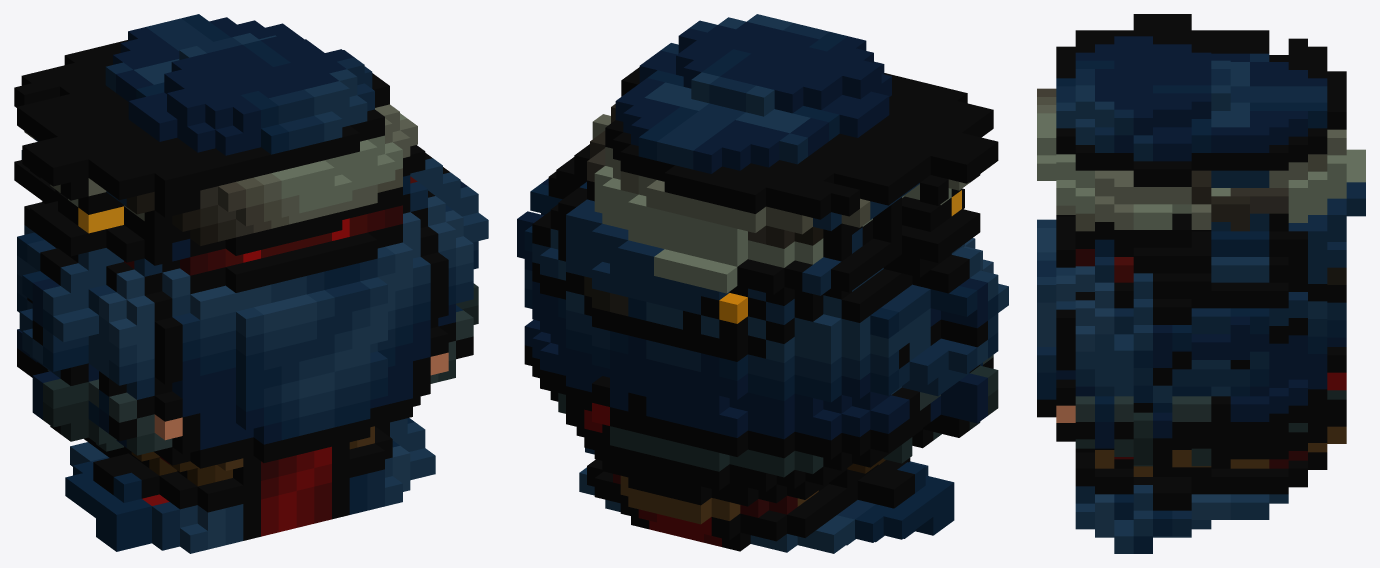
The model's file is Icon_727_02.obj.
3 views of the same model, side by side, from view 1: azimuth 30°, elevation 25°; view 2: azimuth 150°, elevation 25°; view 3: azimuth 270°, elevation 25° (orthographic). The views are drawn at different scales.
Size of the model in its own units: 2.4 by 2.3 by 1.7.
Materials: 1 (1 with a texture image).
